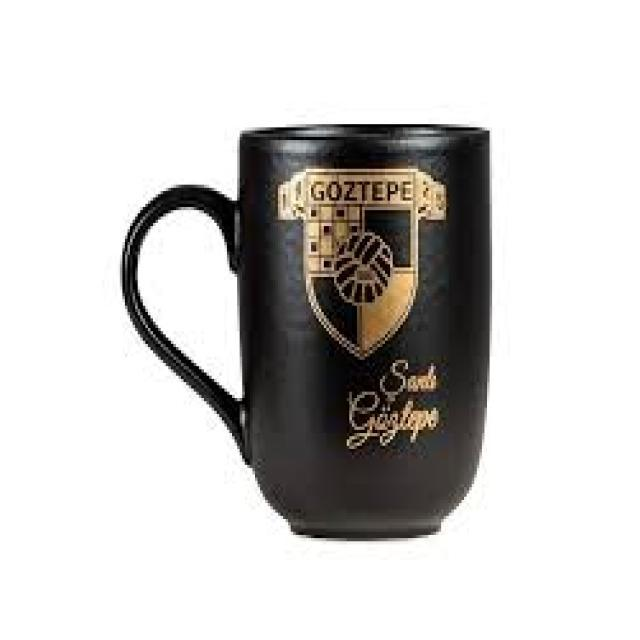taza: (115, 122, 491, 545)
